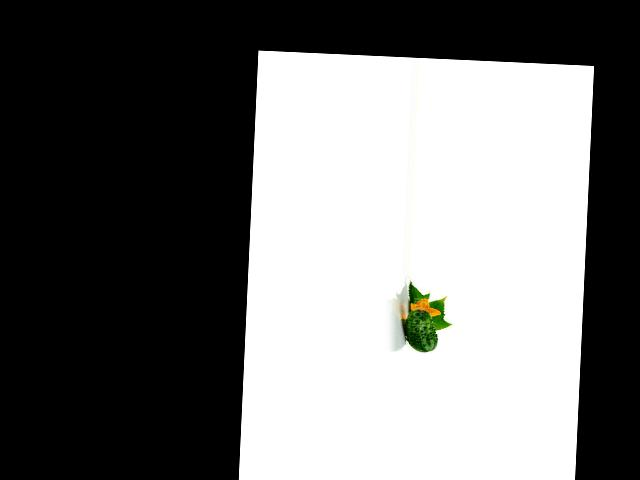cucumber: (403, 310, 438, 353)
